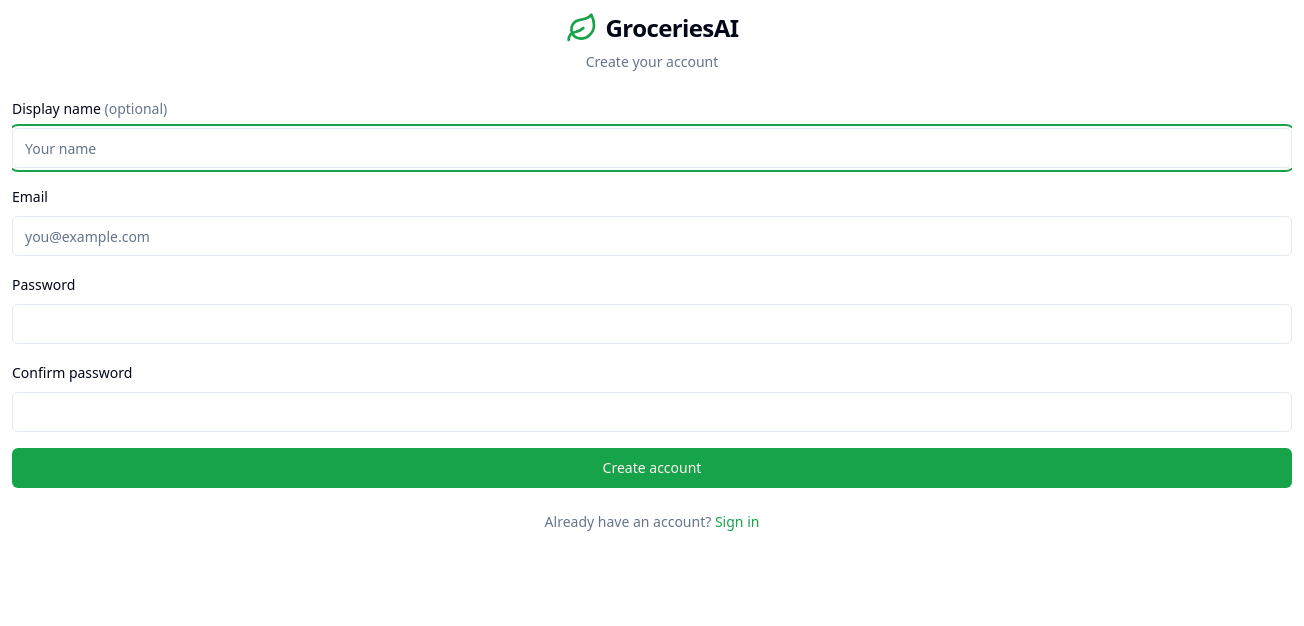
SignUpPage › shows error for duplicate email
Type "dup@example.com" into the field labelled "Email" at (652, 236), box 12,216 -> 1292,256
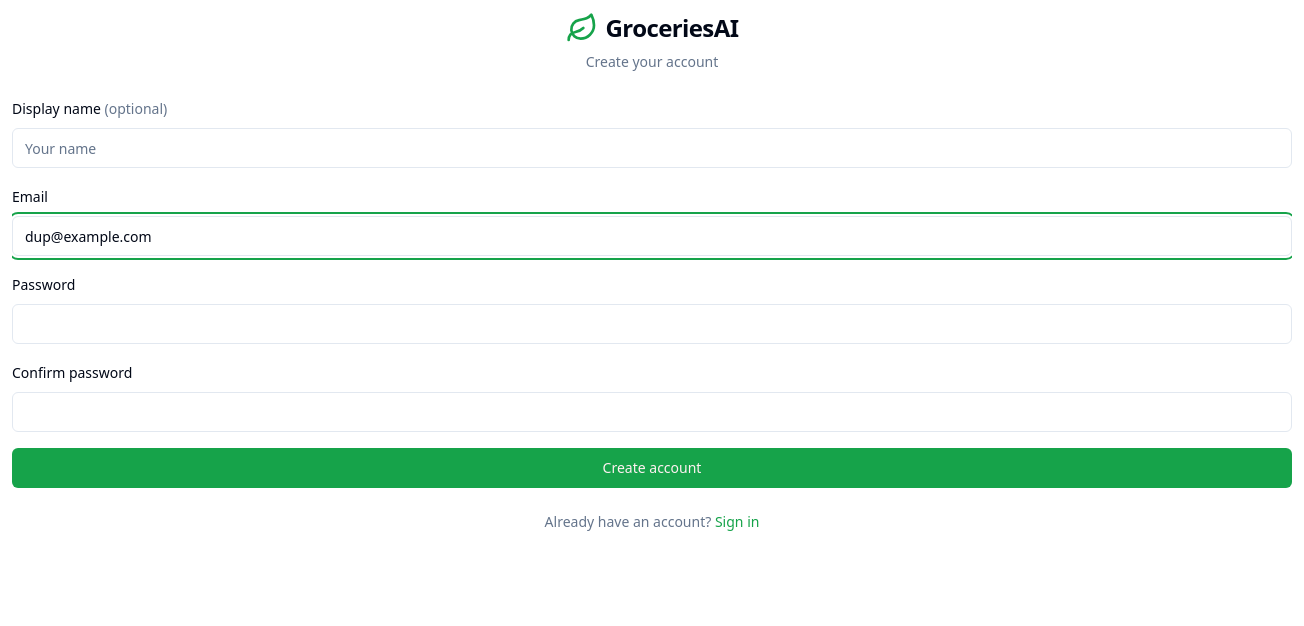
Type "Password1" into the password field labelled "Password" at (652, 324), box 12,304 -> 1292,344
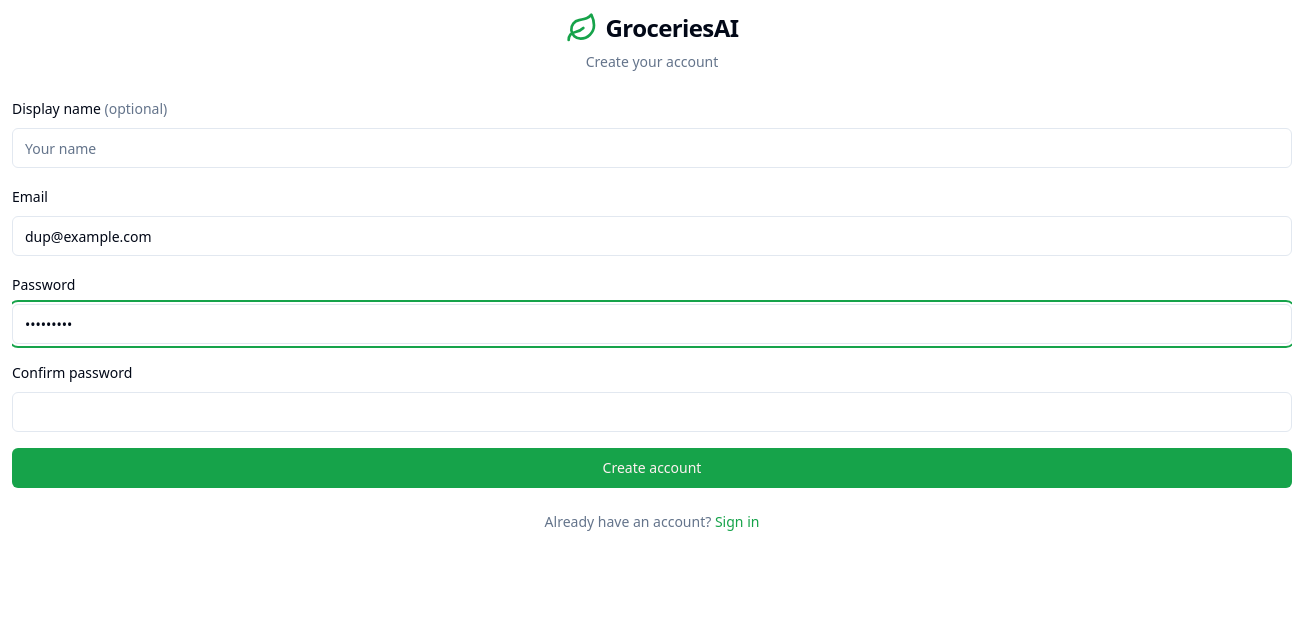
Type "Password1" into the password field labelled "Confirm password" at (652, 412), box 12,392 -> 1292,432
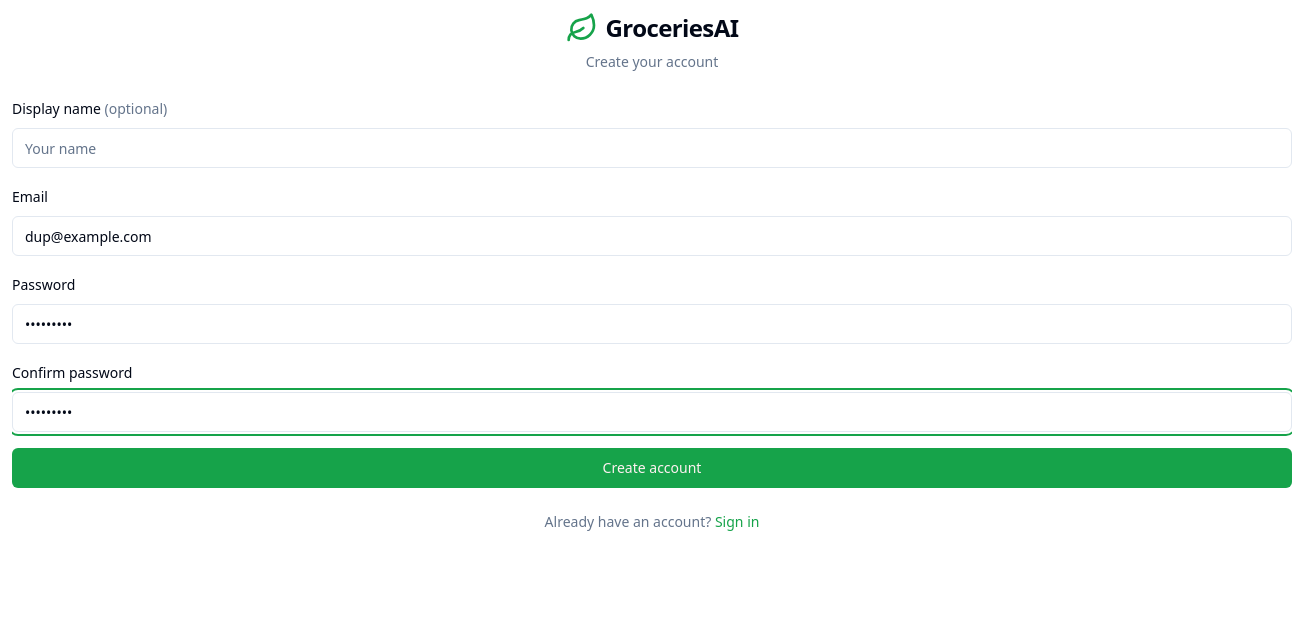
Click the button "Create account" at (652, 468), box 12,448 -> 1292,488
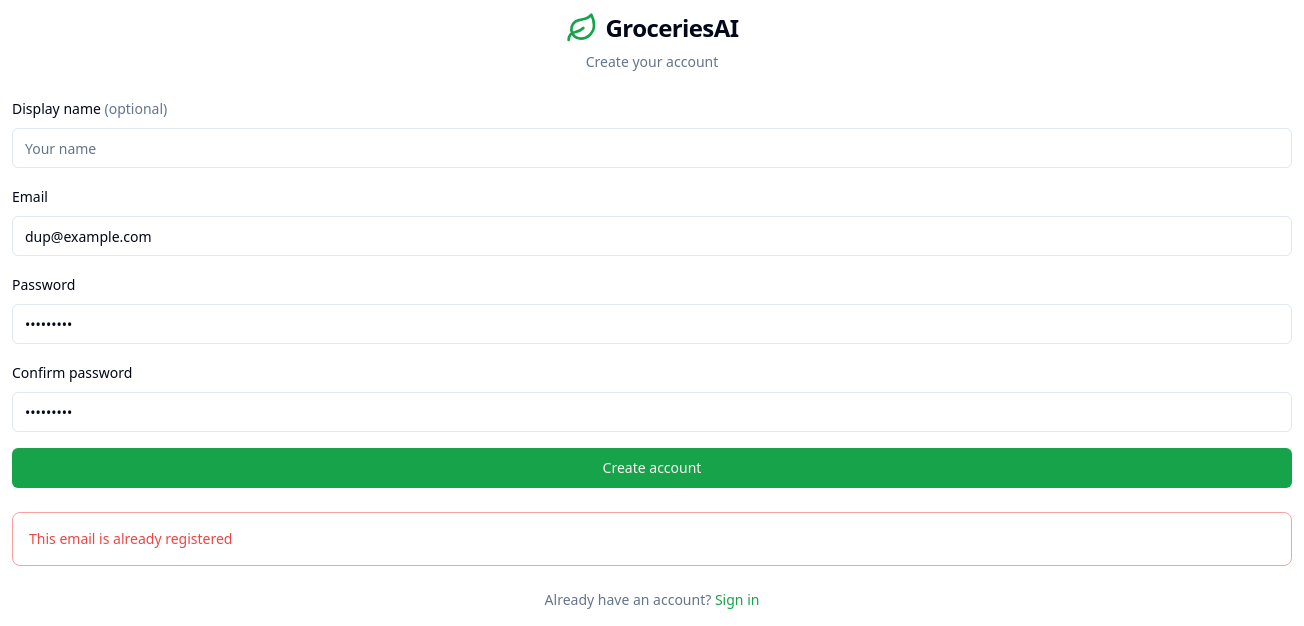
Expected: the text "This email is already registered" is shown, 29,529 -> 232,548
